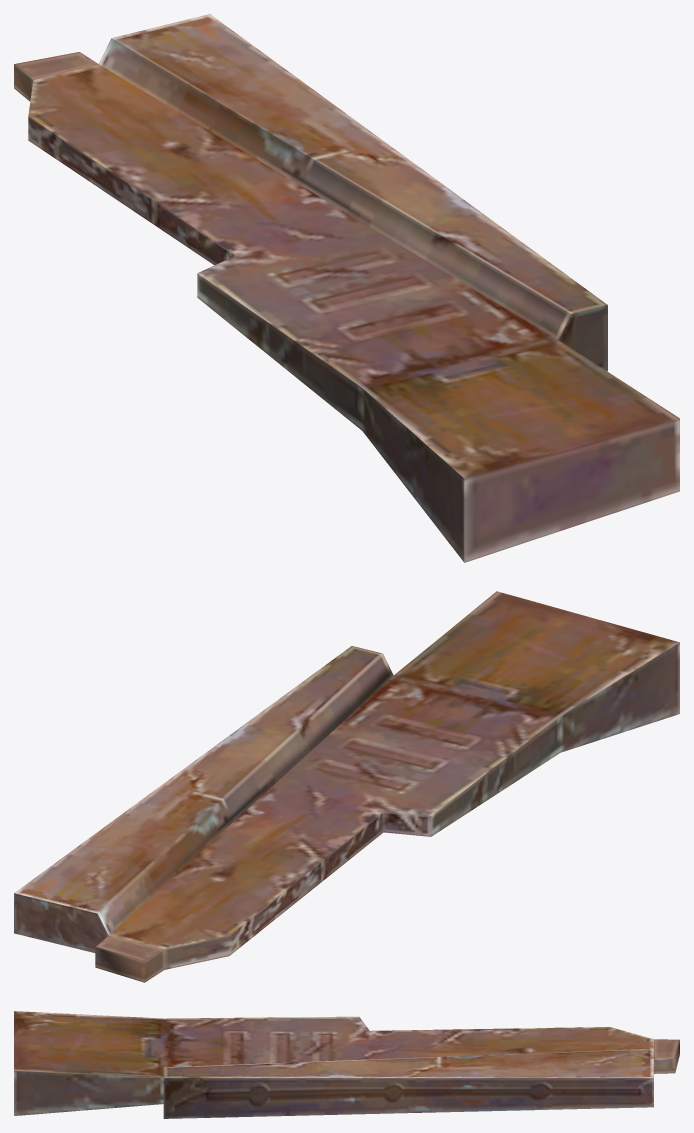
Rendered from tyt_arch_fleshraider_junk_10.glb.
3 views of the same model, one above another, from view 1: azimuth 30°, elevation 25°; view 2: azimuth 150°, elevation 25°; view 3: azimuth 270°, elevation 25° (orthographic). The views are drawn at different scales.
Parts seen in each view (by area): view 1: tyt_arch_fleshraider_junk_10; view 2: tyt_arch_fleshraider_junk_10; view 3: tyt_arch_fleshraider_junk_10.
Part boxes in pixels (x1=…): tyt_arch_fleshraider_junk_10: x1=14, y1=14, x2=679, y2=562; tyt_arch_fleshraider_junk_10: x1=14, y1=591, x2=679, y2=982; tyt_arch_fleshraider_junk_10: x1=14, y1=1011, x2=679, y2=1118.
Size of the model in its own units: 0.0716 by 0.0269 by 0.2528.
Materials: 1 (1 with a texture image).
